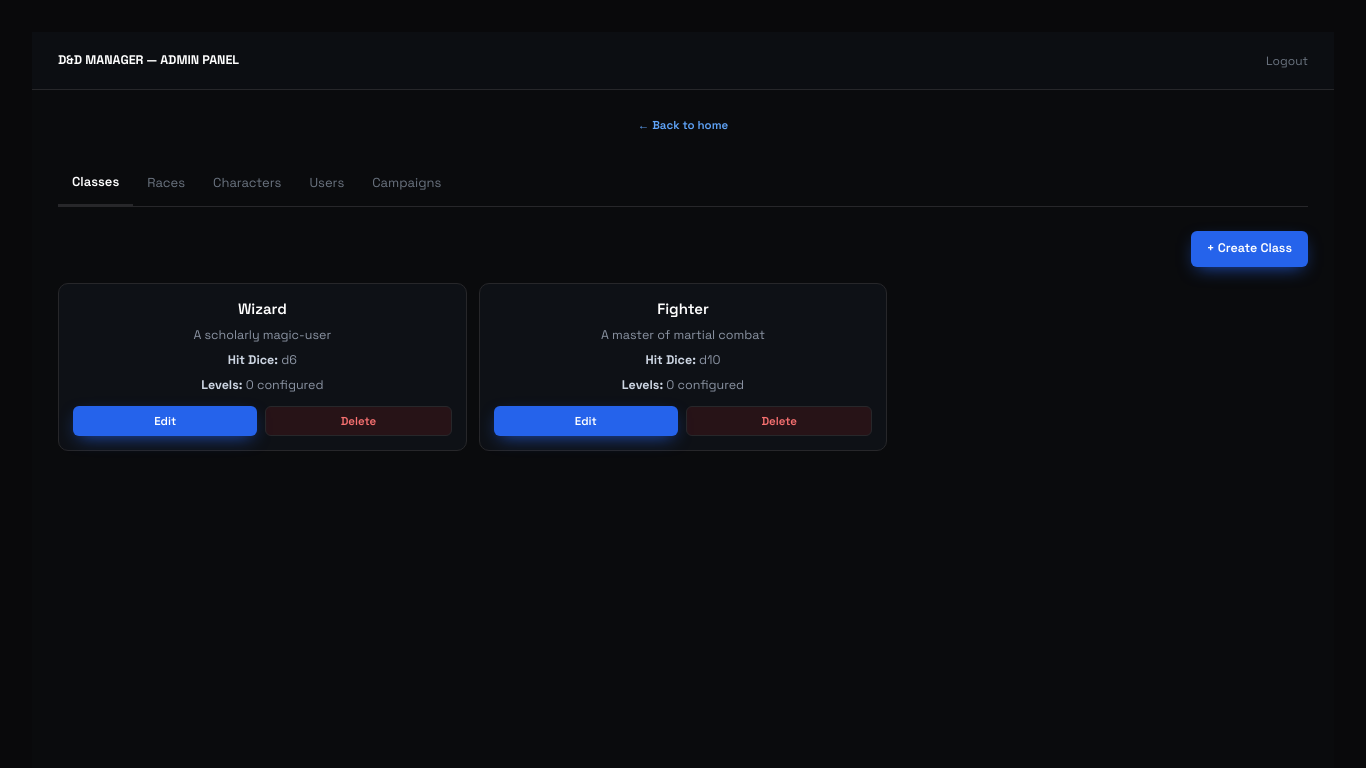
Scenario: AdminPanel — Users CRUD › shows confirm modal before deleting a user
Click the tab "Users": (327, 183) [295,161,358,204]
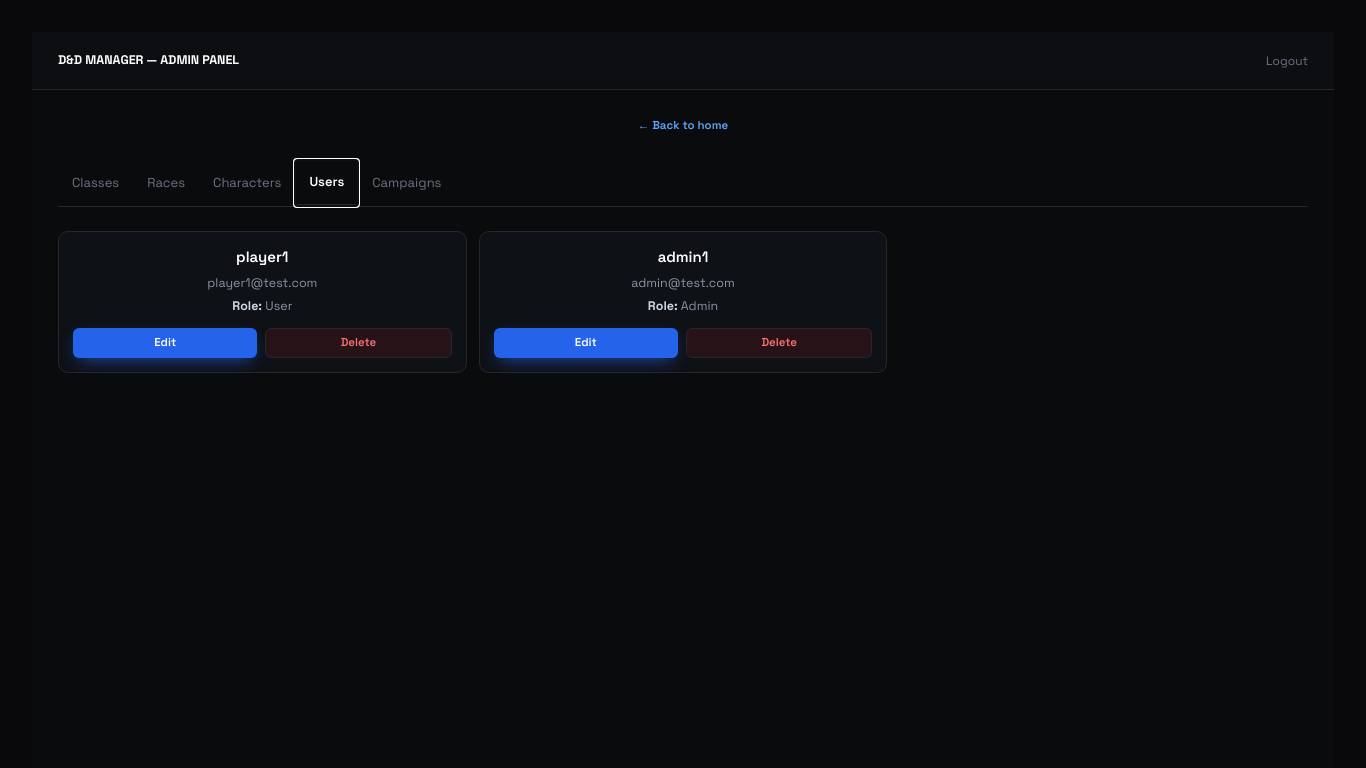
Click the button "Delete" below "player1@test.com": (358, 342) [265,328,452,358]
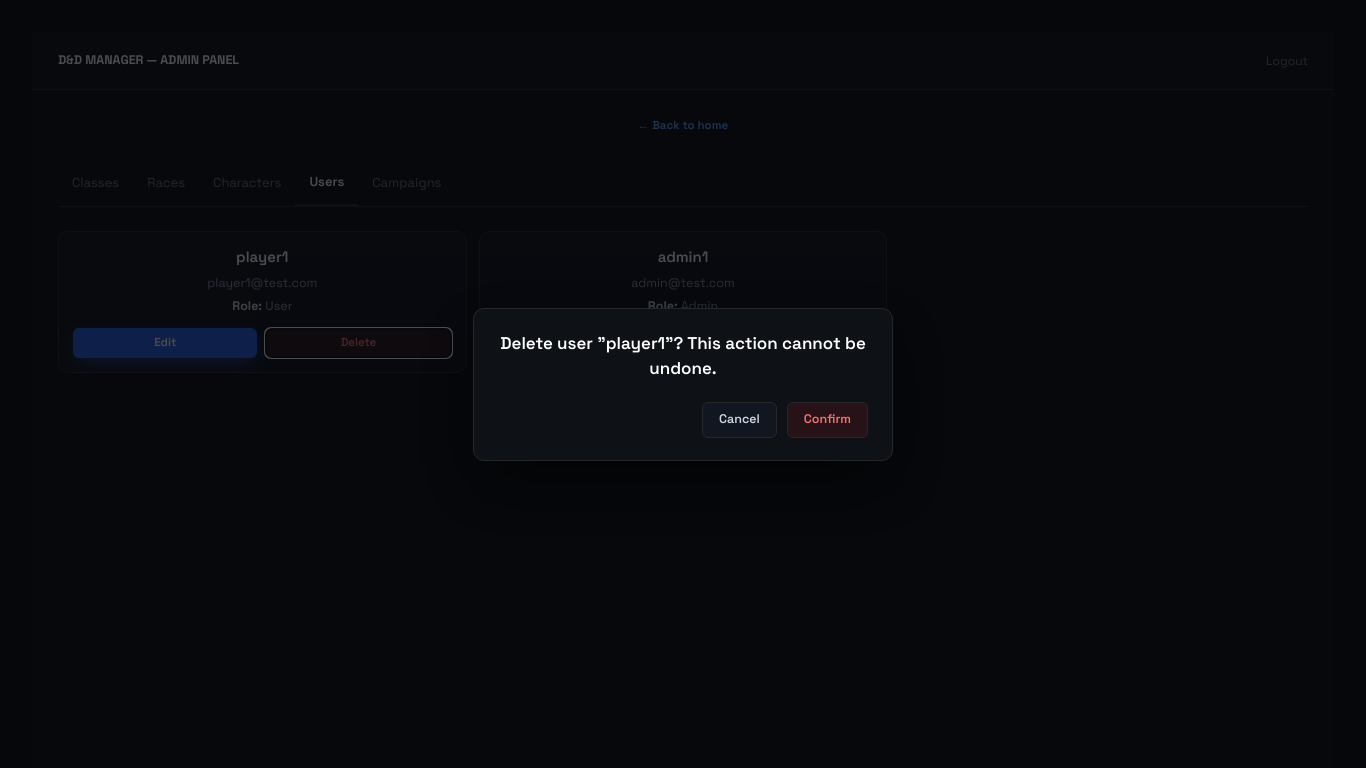
Result: the heading "Delete user \"player1\"? This action cannot be undone." is shown at [498,330,868,382]
Result: the button "Confirm" is shown at [787,402,868,438]
Result: the button "Cancel" is shown at [702,402,777,438]
